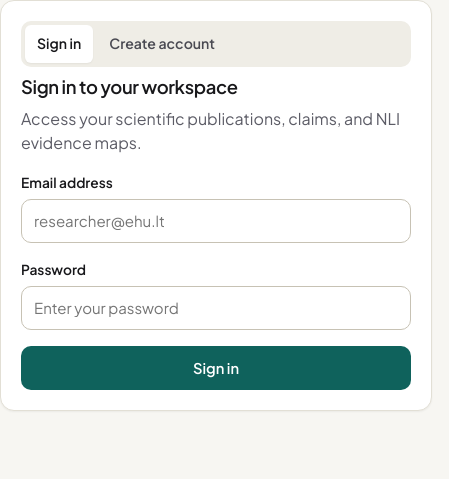
Test: AuthForm › validates empty and malformed login fields before submitting
The width and height of the screenshot is (449, 479).
Click the button "Sign in": click(216, 368) [21,346,411,390]
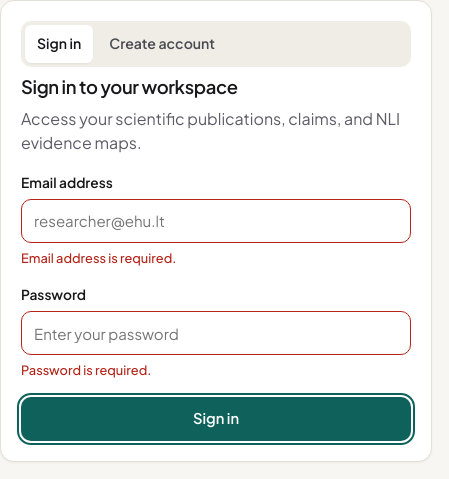
Now the text "Email address is required." is shown, box [21,250,176,266]
Now the text "Password is required." is shown, box [21,362,151,378]
In the field labelled "Email address": (216, 221) [21,199,411,243], type "not-an-email"
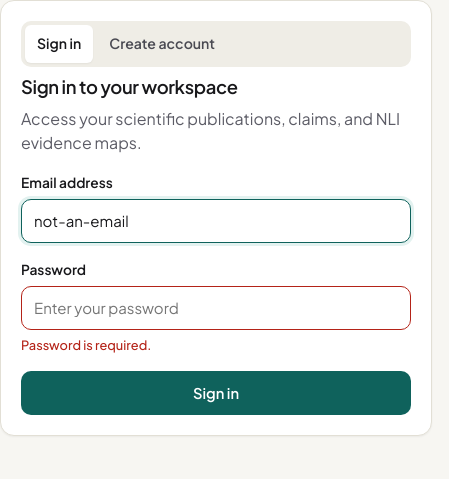
In the password field labelled "Password": (216, 308) [21,286,411,330], type "pass"
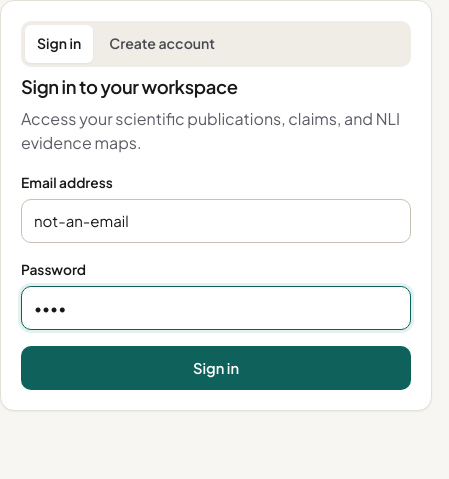
Click the button "Sign in": click(216, 368) [21,346,411,390]
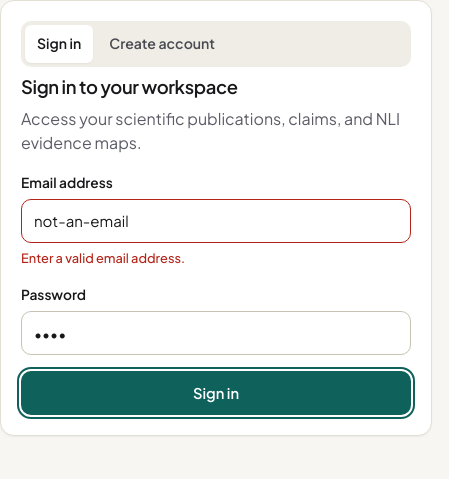
Now the text "Enter a valid email address." is shown, box [21,250,185,266]
